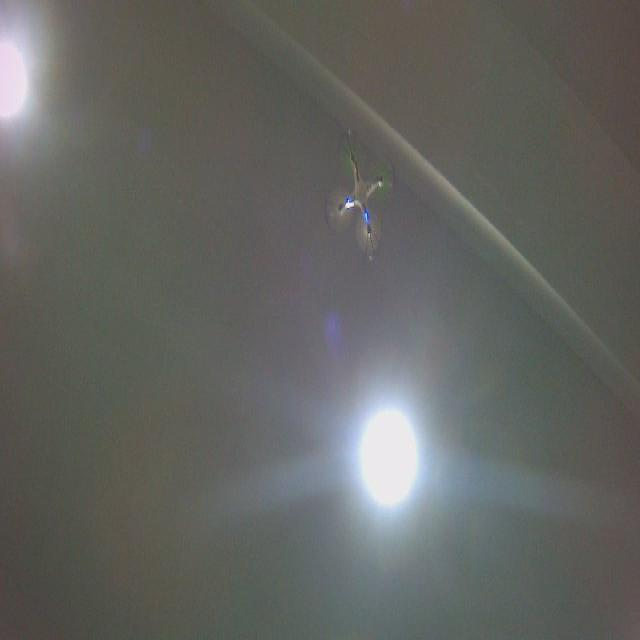drone: (321, 124, 398, 264)
